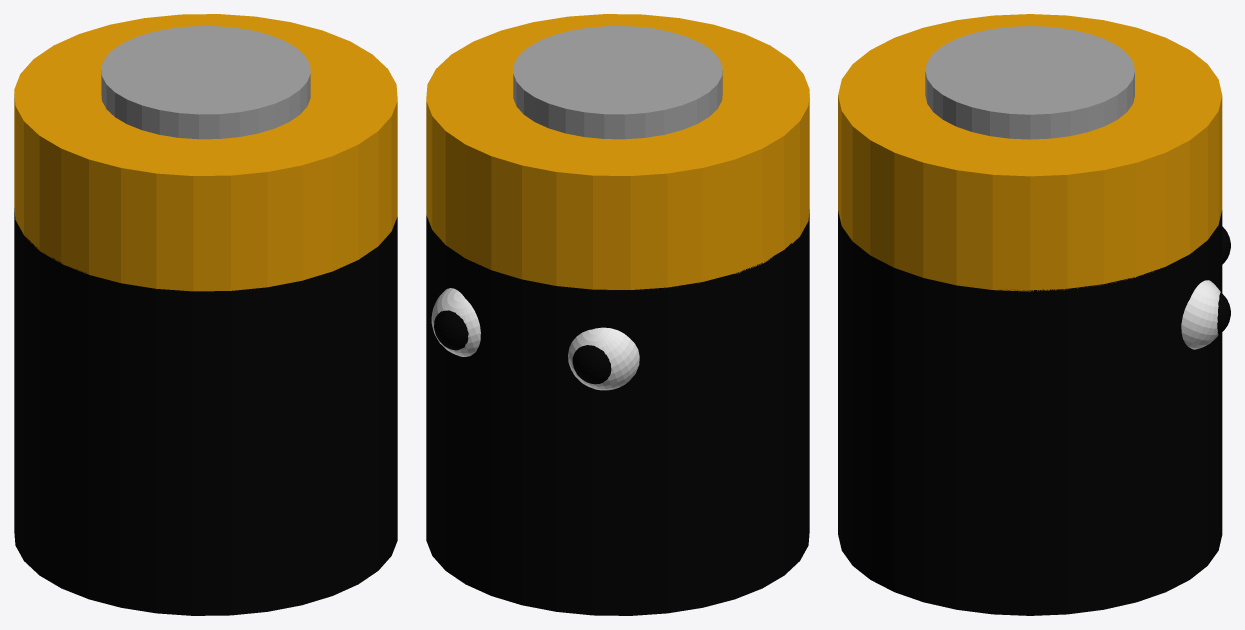
Rendered from Batery.fbx.
The picture shows the model from 3 angles, left to right: view 1: azimuth 30°, elevation 25°; view 2: azimuth 150°, elevation 25°; view 3: azimuth 270°, elevation 25°; orthographic projection.
Parts seen in each view (by area): view 1: Cylinder.001, Cylinder, Cylinder.002; view 2: Cylinder.001, Cylinder, Cylinder.002, Sphere.001, Sphere, Sphere.003, Sphere.004; view 3: Cylinder.001, Cylinder, Cylinder.002, Sphere.
Boxes of the visible parts, x1,y1,x2,y2 form: Cylinder.001: [14, 208, 397, 615]; Cylinder: [14, 14, 397, 291]; Cylinder.002: [101, 26, 310, 139]; Cylinder.001: [426, 209, 809, 615]; Cylinder: [426, 14, 809, 289]; Cylinder.002: [513, 26, 722, 139]; Sphere.001: [568, 327, 639, 390]; Sphere: [431, 288, 480, 356]; Sphere.003: [572, 345, 611, 384]; Sphere.004: [434, 310, 468, 350]; Cylinder.001: [838, 210, 1222, 615]; Cylinder: [838, 14, 1222, 291]; Cylinder.002: [925, 26, 1134, 139]; Sphere: [1181, 280, 1220, 349].
Size of the model in its own units: 200 by 267 by 204.
